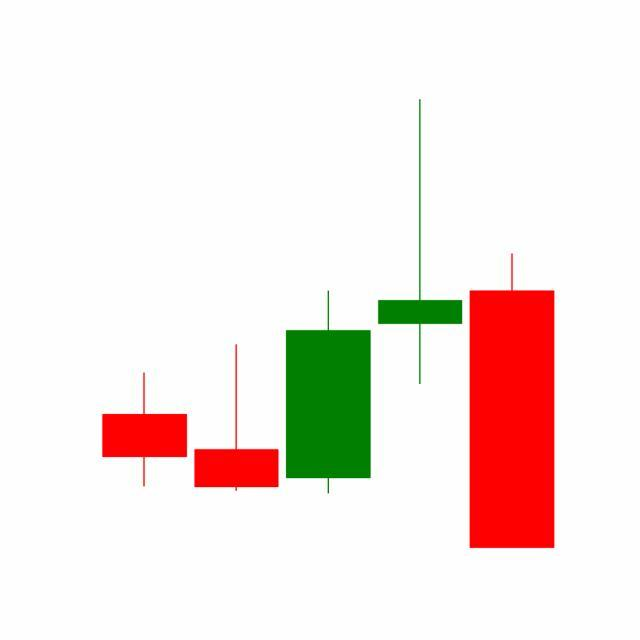Evening Star: (280, 99, 555, 549)
